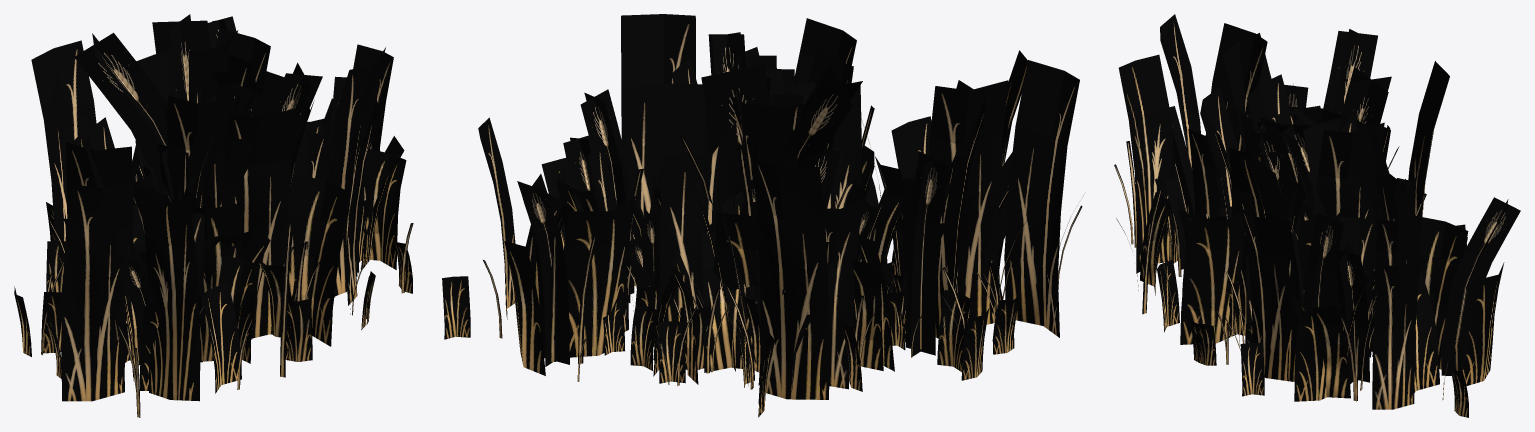
Rendered from DesertGrass_v2_fuji.glb.
The picture shows the model from 3 angles, left to right: view 1: azimuth 30°, elevation 25°; view 2: azimuth 150°, elevation 25°; view 3: azimuth 270°, elevation 25°; orthographic projection. The views are drawn at different scales.
Visible parts, largest first — view 1: Grass_7, Grass_9, Grass_6, Grass_8, Grass_10, Grass_5, Grass_1, Grass_2, Grass_3, Grass_4; view 2: Grass_7, Grass_9, Grass_5, Grass_6, Grass_8, Grass_1, Grass_10, Grass_2; view 3: Grass_7, Grass_6, Grass_9, Grass_5, Grass_2, Grass_8, Grass_1, Grass_10, Grass_3, Grass_4.
Boxes of the visible parts, box(x1,y1,x2,y2) form: Grass_7: box(47, 16, 393, 417); Grass_9: box(31, 40, 412, 390); Grass_6: box(41, 49, 381, 363); Grass_8: box(74, 32, 314, 339); Grass_10: box(133, 99, 327, 338); Grass_5: box(14, 30, 413, 377); Grass_1: box(139, 14, 322, 273); Grass_2: box(46, 28, 375, 361); Grass_3: box(149, 103, 296, 293); Grass_4: box(160, 77, 258, 188); Grass_7: box(442, 50, 1082, 376); Grass_9: box(556, 14, 1027, 399); Grass_5: box(541, 80, 1002, 381); Grass_6: box(603, 69, 970, 417); Grass_8: box(692, 47, 896, 309); Grass_1: box(698, 32, 874, 371); Grass_10: box(673, 18, 892, 385); Grass_2: box(627, 47, 910, 391); Grass_7: box(1114, 14, 1520, 417); Grass_6: box(1157, 104, 1466, 381); Grass_9: box(1155, 61, 1449, 401); Grass_5: box(1142, 33, 1467, 398); Grass_2: box(1195, 122, 1416, 365); Grass_8: box(1231, 29, 1404, 266); Grass_1: box(1242, 67, 1408, 316); Grass_10: box(1200, 87, 1402, 346); Grass_3: box(1216, 105, 1377, 343); Grass_4: box(1277, 114, 1311, 197).
Bounding box in the file's own units: 2.27 × 1.4 × 1.99.
Materials: 1 (1 with a texture image).
